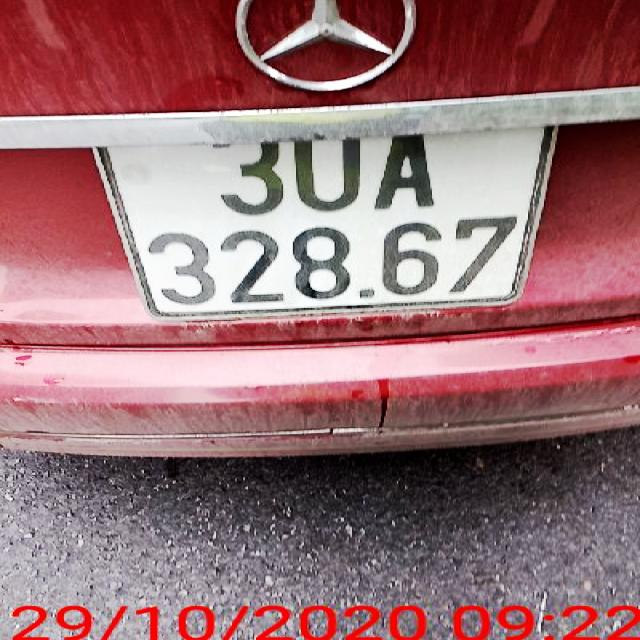license_plate: (103, 129, 556, 320)
